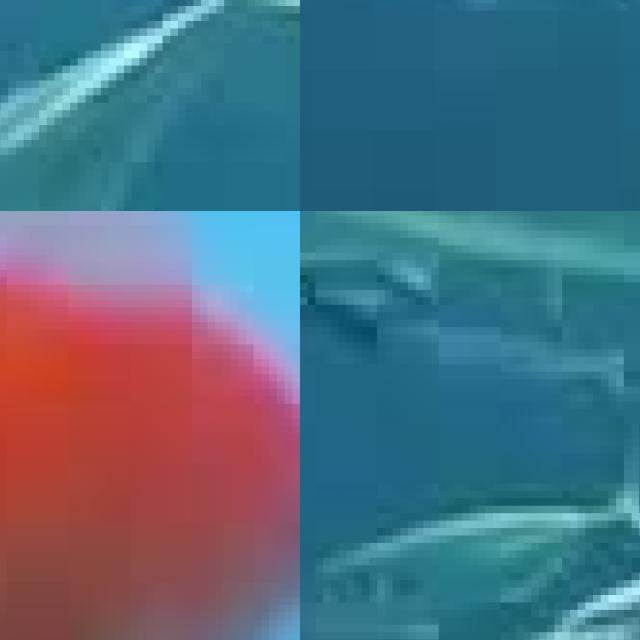fish: (300, 0, 640, 211), (0, 0, 300, 211), (300, 211, 640, 372)
